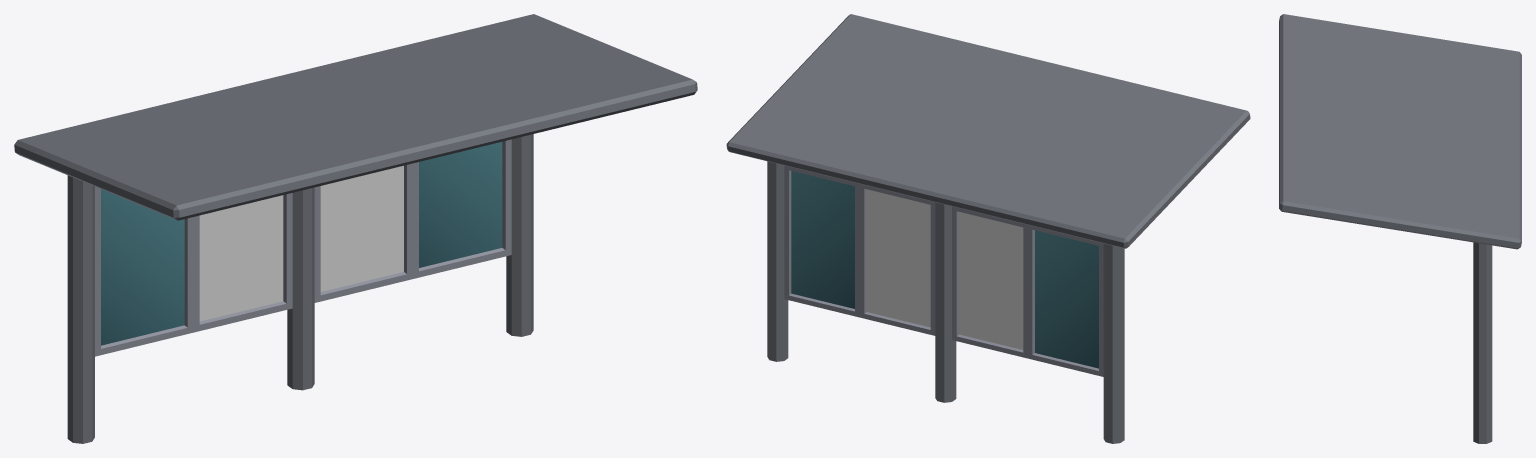
File: busStop.fbx
3 renders of one model, left to right at view 1: azimuth 30°, elevation 25°; view 2: azimuth 150°, elevation 25°; view 3: azimuth 270°, elevation 25°, orthographic. The views are drawn at different scales.
Parts seen in each view (by area): view 1: busStop; view 2: busStop; view 3: busStop.
Boxes of the visible parts, x1,y1,x2,y2 form: busStop: (14,14,697,443); busStop: (726,14,1250,443); busStop: (1279,14,1521,443).
Size of the model in its own units: 438 by 272 by 237.
Materials: 1 (1 with a texture image).
